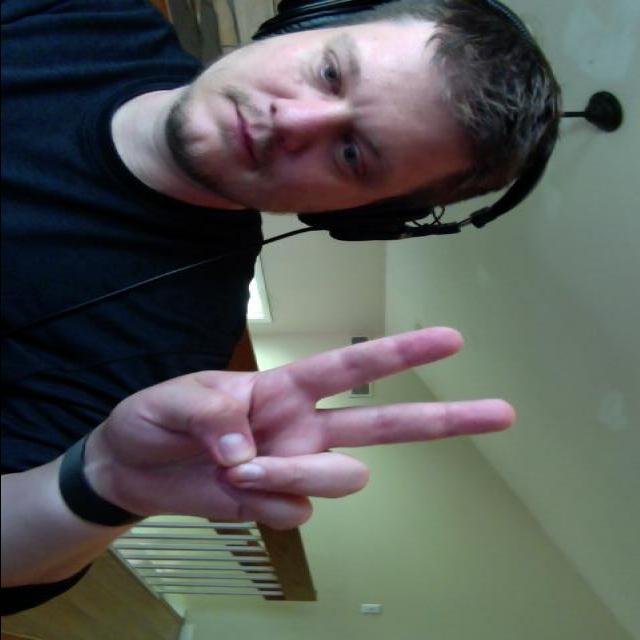Scissors: (86, 322, 526, 545)
